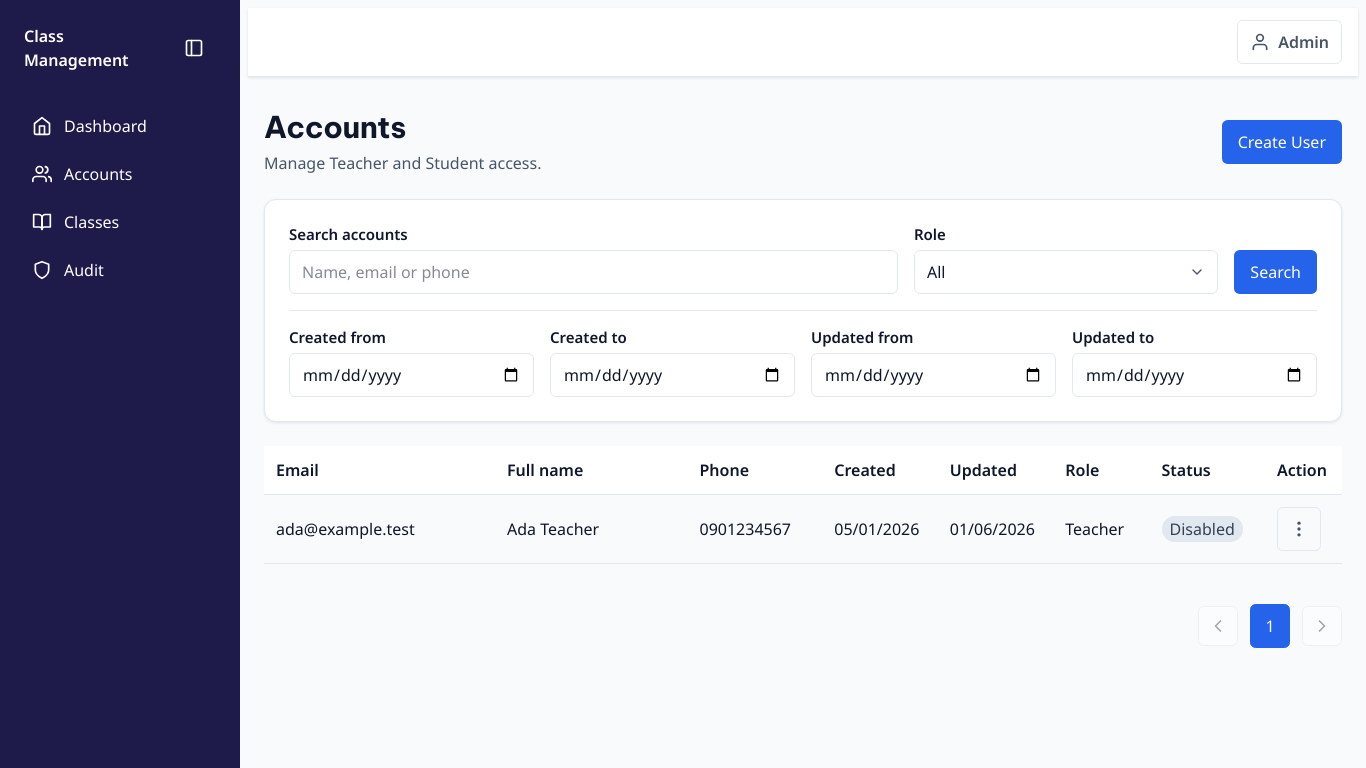
Admin accounts › keeps set-password drafts after a 422 response
Check: the text "ada@example.test" is shown, box [276, 518, 415, 540]
Click the button named "Actions for ada@example.test" at point(1299, 529), box [1277, 507, 1321, 551]
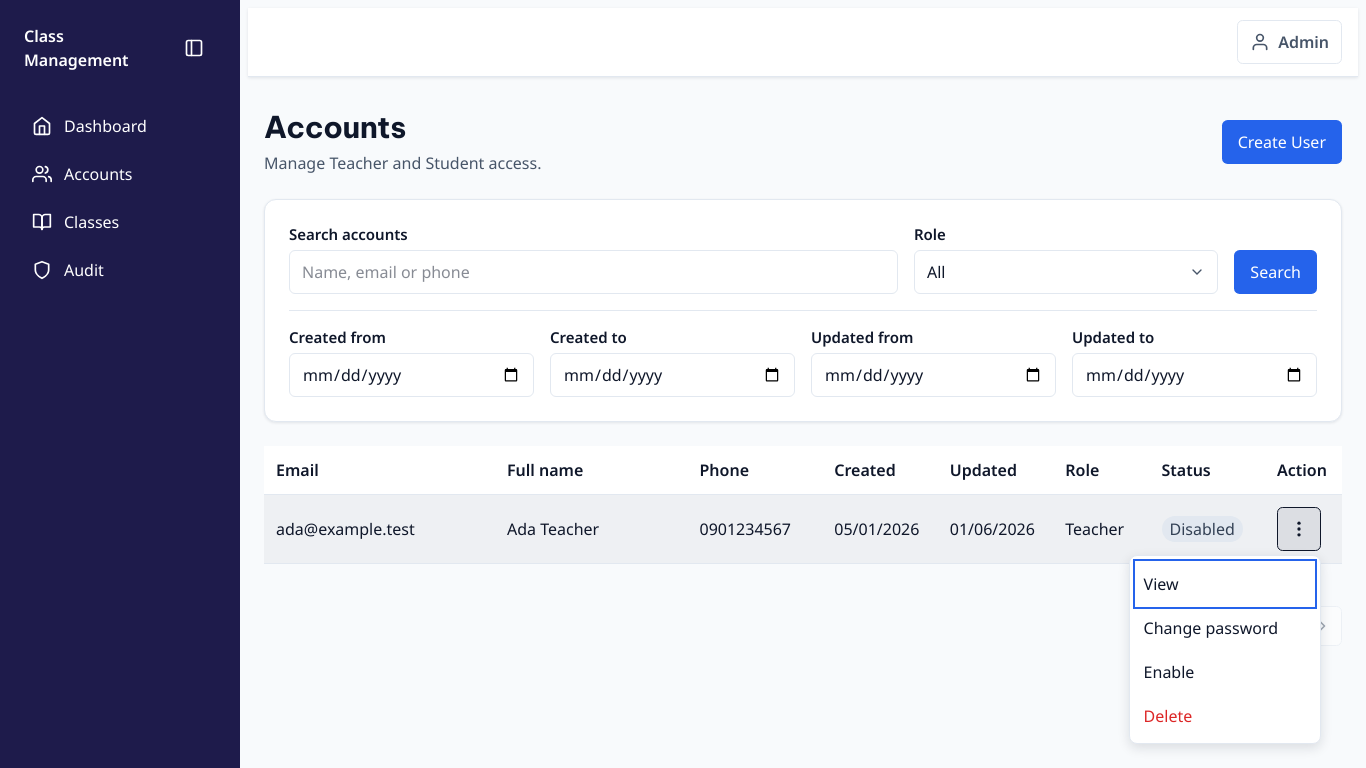
Click the menu item with aria-label "Change password ada@example.test" at point(1225, 628), box [1136, 606, 1314, 650]
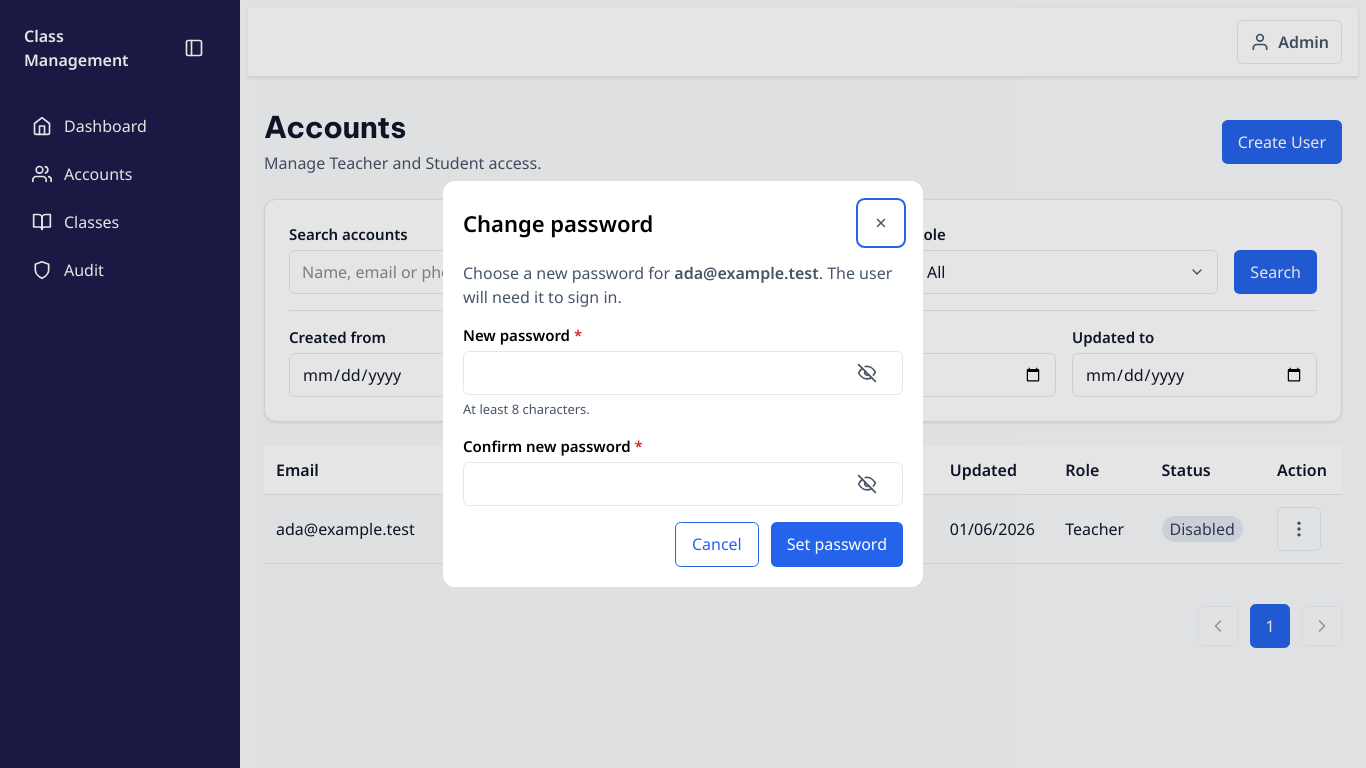
Type "Temporary123!" into the password field labelled "New password" at point(683, 373), box [463, 351, 903, 395]
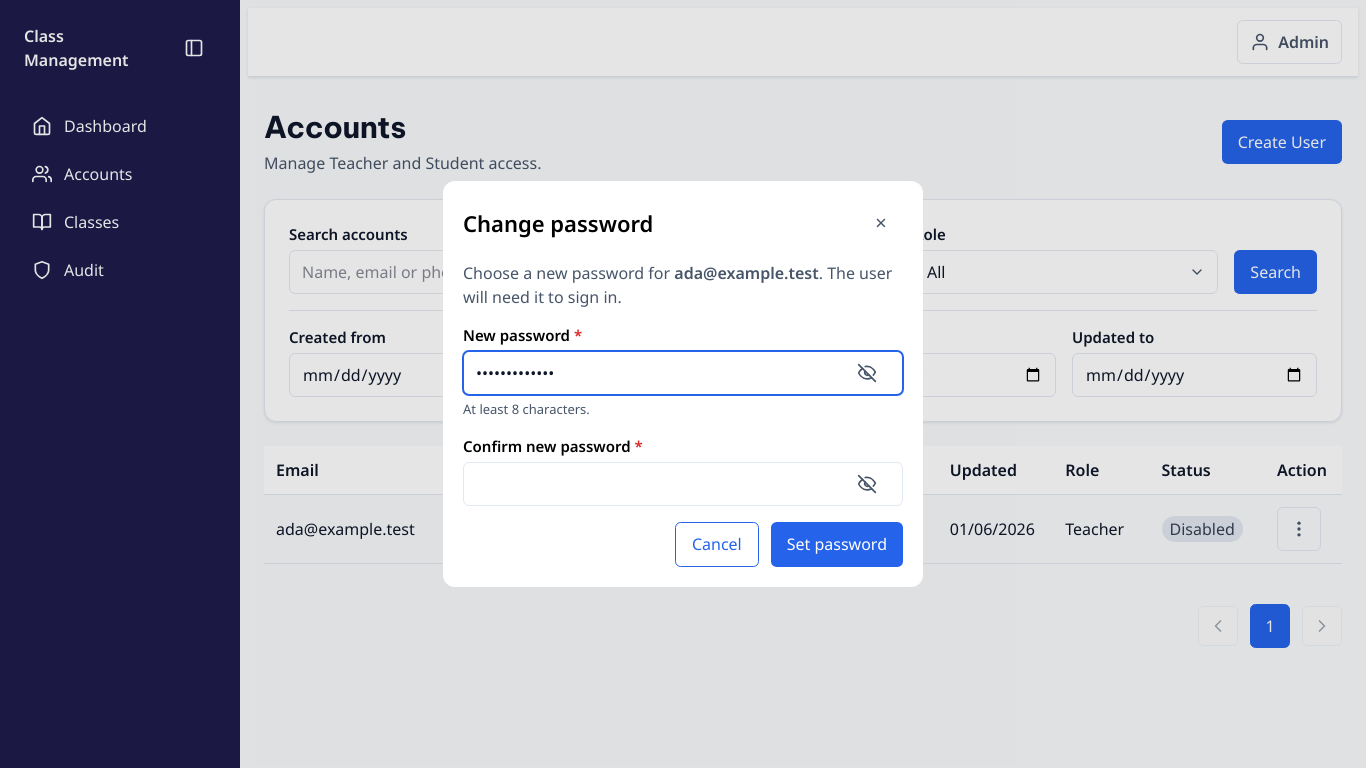
Type "Temporary123!" into the password field labelled "Confirm new password" at point(683, 484), box [463, 462, 903, 506]
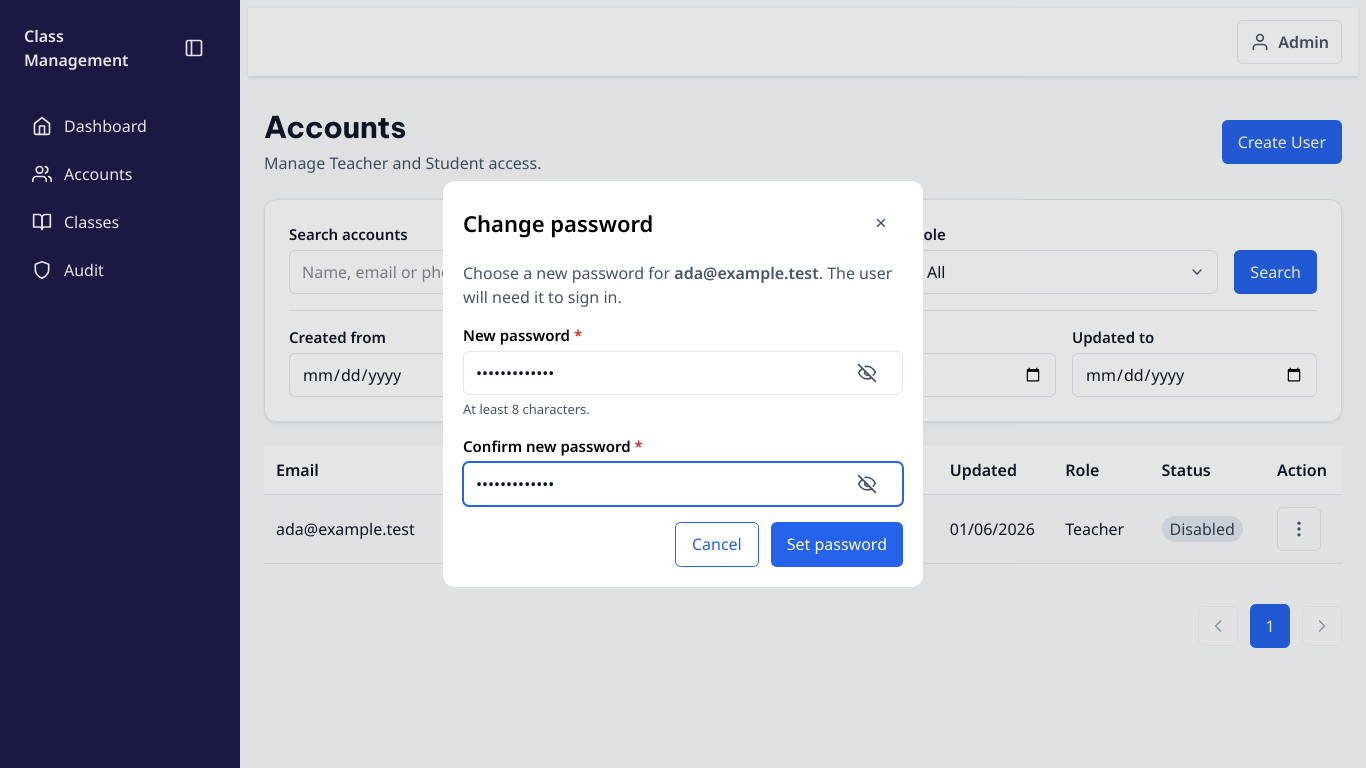
Click the button "Set password" at point(837, 544), box [771, 522, 903, 567]
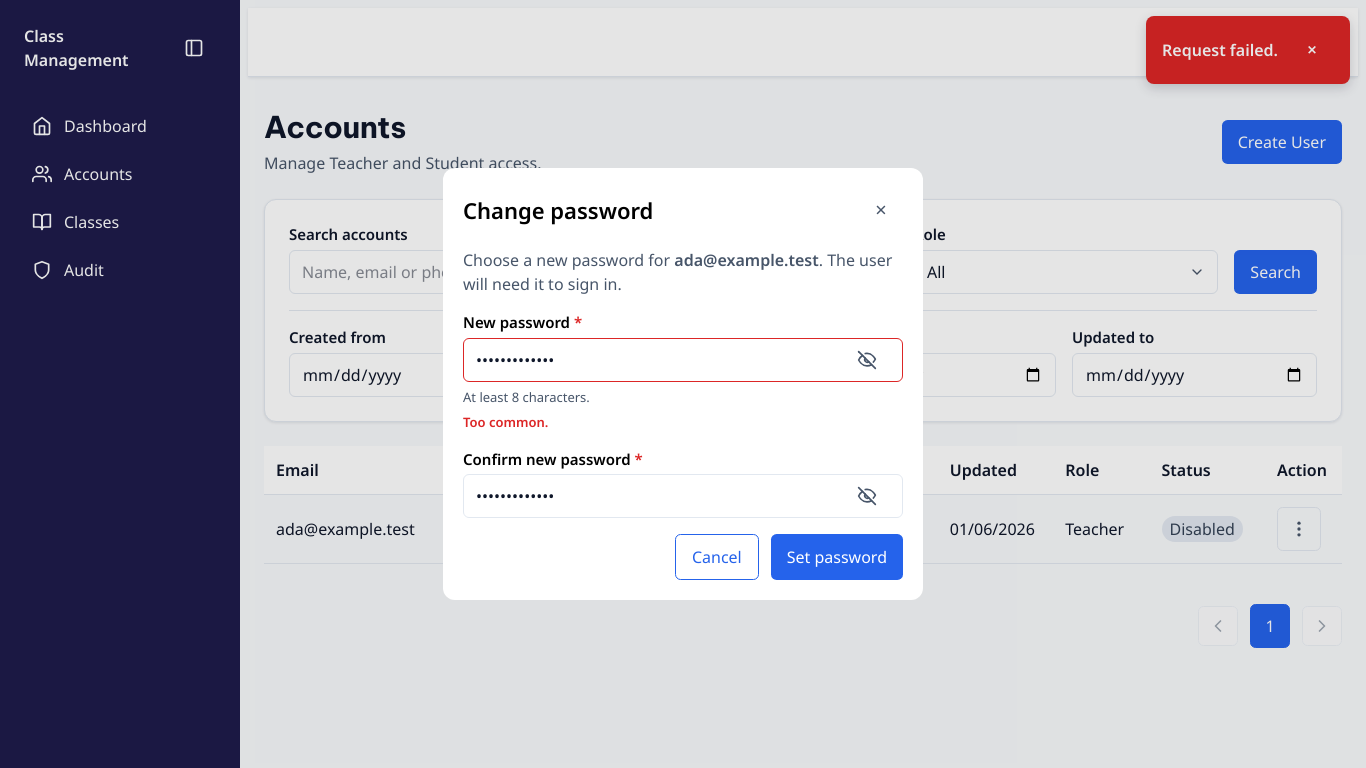
Check: the text "Too common." is shown, box [463, 413, 548, 431]
